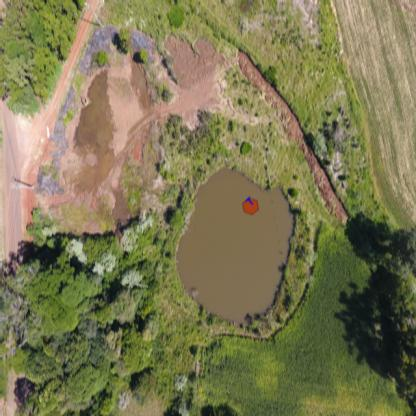T: (246, 196, 253, 206)
hexagon: (242, 198, 260, 216)
